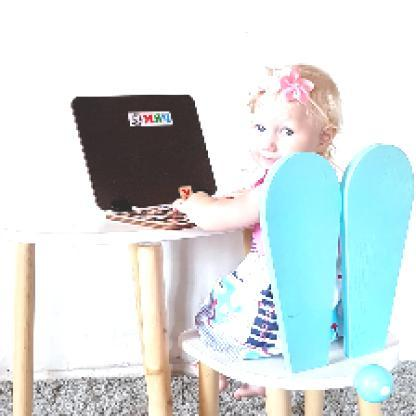child: (173, 64, 344, 399)
